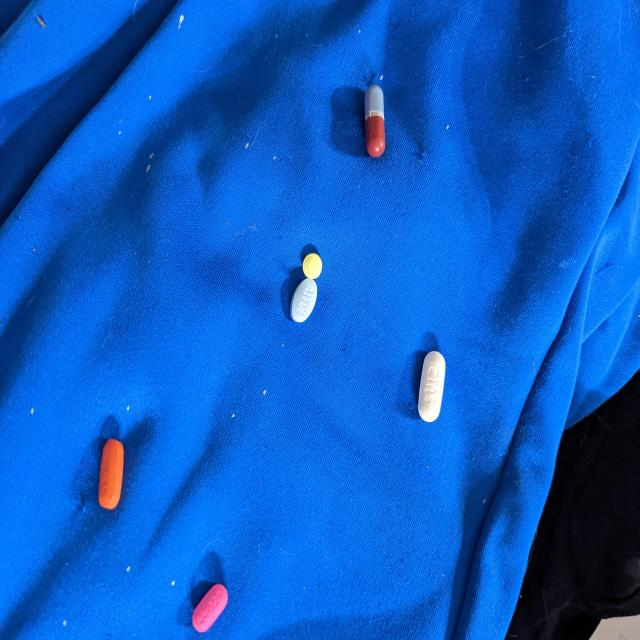non-organic waste: (417, 350, 447, 423), (98, 439, 124, 510), (192, 584, 228, 633), (364, 84, 386, 158), (290, 277, 318, 324), (302, 252, 323, 280)
